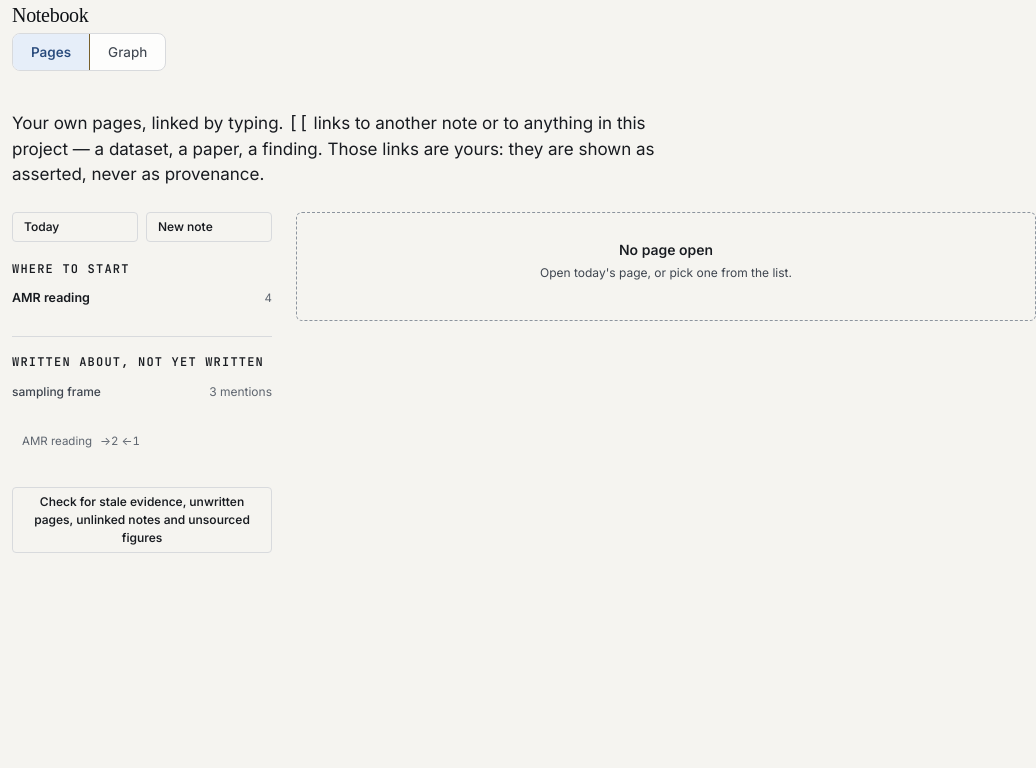
what the check found, in words › names each kind as a block rather than a lowercase fragment
Click the button "stale evidence": (142, 520) [12, 486, 272, 552]
(page scrolled)
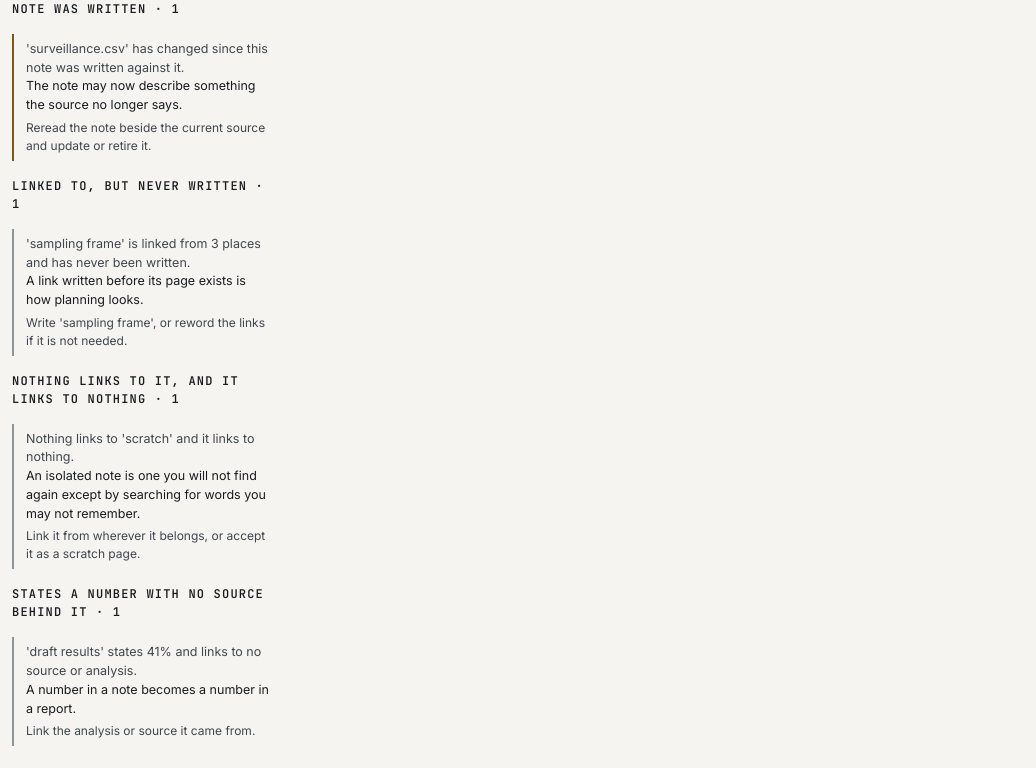
Result: the heading "Linked to, but never written · 1" is shown at [12, 177, 272, 213]
Result: the heading "Nothing links to it, and it links to nothing · 1" is shown at [12, 372, 272, 408]
Result: the heading "States a number with no source behind it · 1" is shown at [12, 585, 272, 621]
